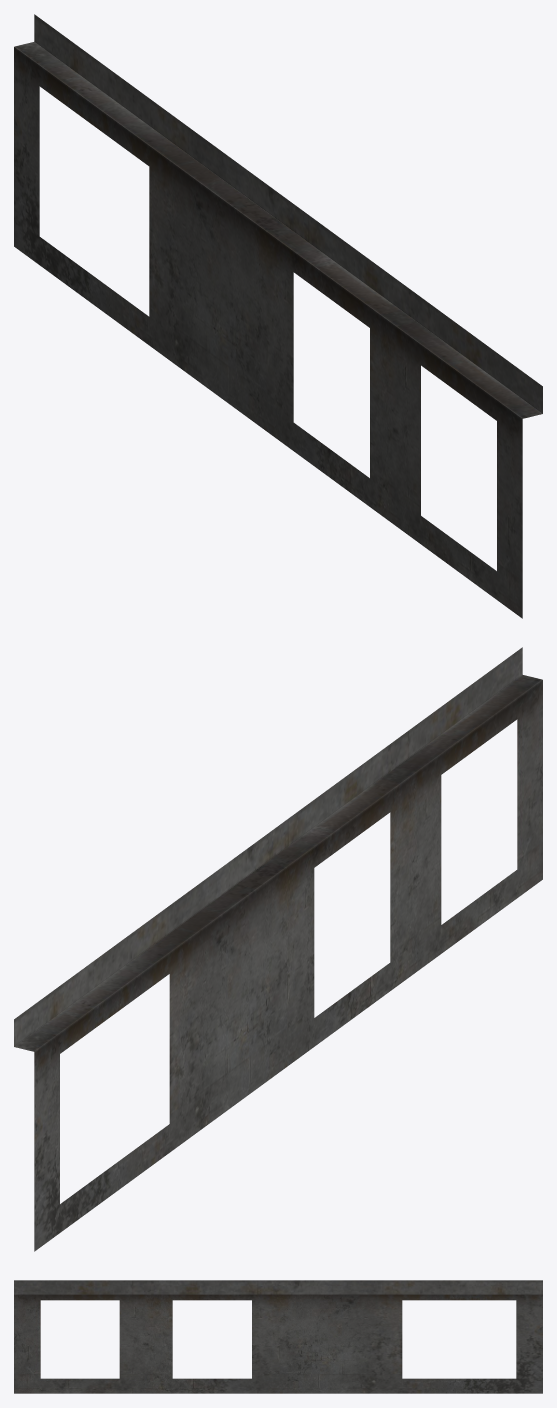
File: ShopsFront.FBX
The picture shows the model from 3 angles, top to bottom: view 1: azimuth 30°, elevation 25°; view 2: azimuth 150°, elevation 25°; view 3: azimuth 270°, elevation 25°; orthographic projection. The views are drawn at different scales.
Visible parts, largest first — view 1: ShopsFront; view 2: ShopsFront; view 3: ShopsFront.
Part boxes in pixels (x1,y1,x2,y2): ShopsFront: (14,14,542,618); ShopsFront: (14,647,542,1251); ShopsFront: (14,1280,542,1393).
Size of the model in its own units: 50 by 531 by 2152.
